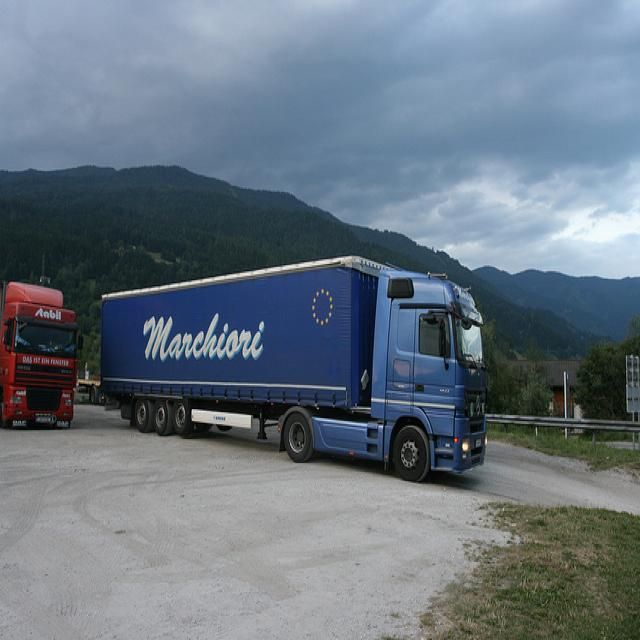Vehicle: (100, 255, 487, 486), (0, 279, 84, 430)
